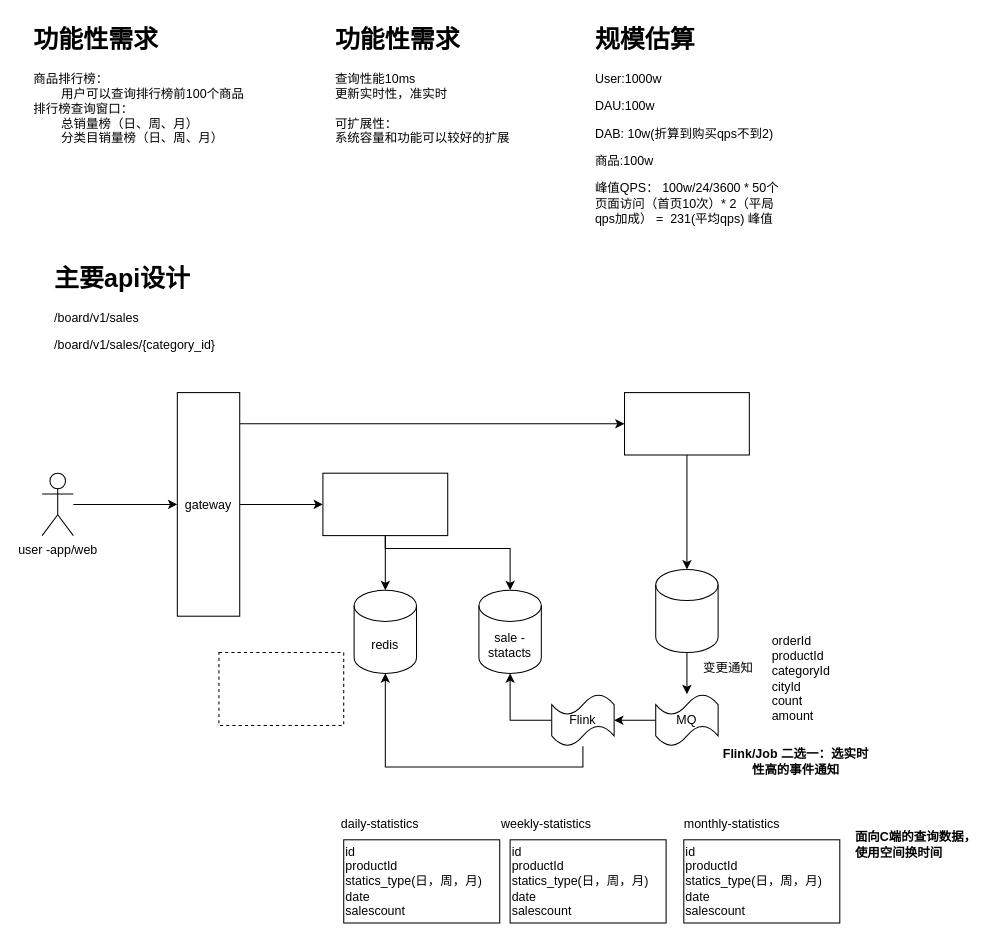
The diagram is 995 pixels wide and 941 high, and some of its shapes have lost their labels. Here are the shapes that lost their labels. From the top down, the centre of each, then its label:
At [686,423]: "deal-service".
At [385,504]: "board-service 增加localCache".
At [686,610]: "order -DB".
At [281,688]: "redis存储使用zset 保留前x条数据，每次更新并截断超出部分".
